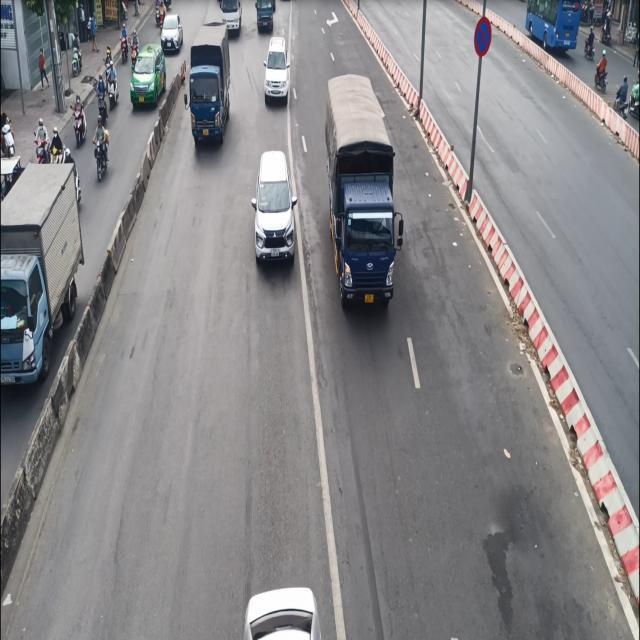bus: (524, 0, 582, 54)
car: (250, 149, 298, 264)
truck: (0, 156, 84, 386), (323, 72, 404, 310), (184, 28, 240, 156)
